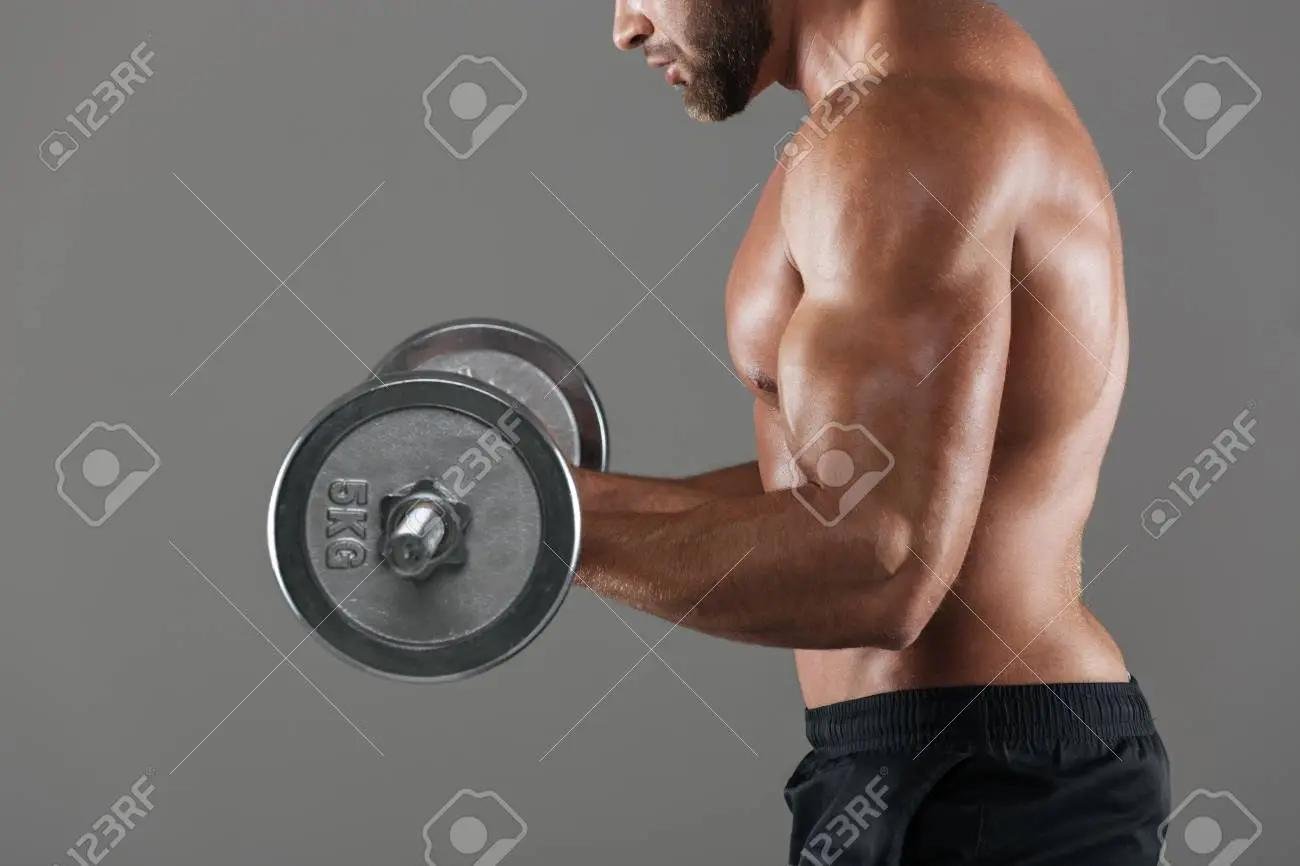Barbell: (383, 525, 437, 587)
